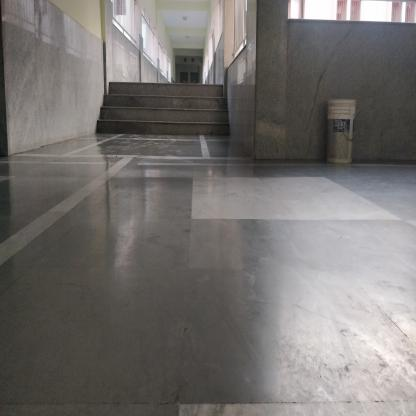stairs: (109, 80, 223, 142)
